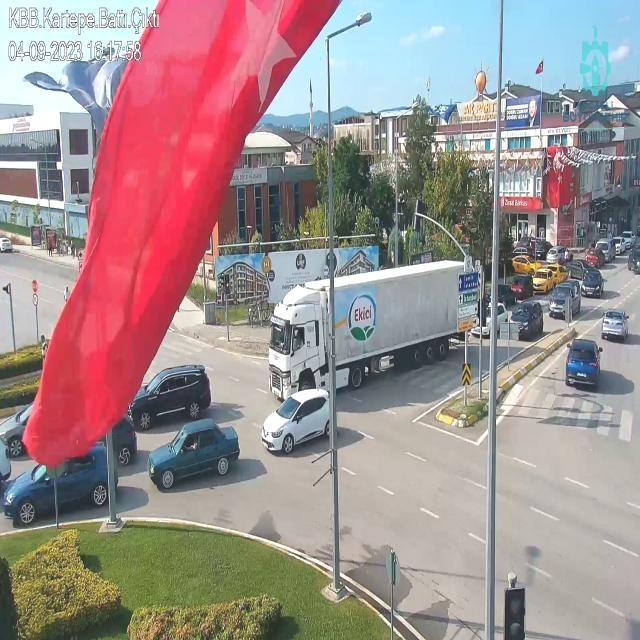Car: (0, 430, 116, 542), (150, 415, 244, 499), (120, 352, 214, 433), (264, 393, 337, 464), (594, 291, 639, 355), (559, 333, 599, 399), (542, 281, 576, 331)
Truck: (252, 249, 491, 419)
